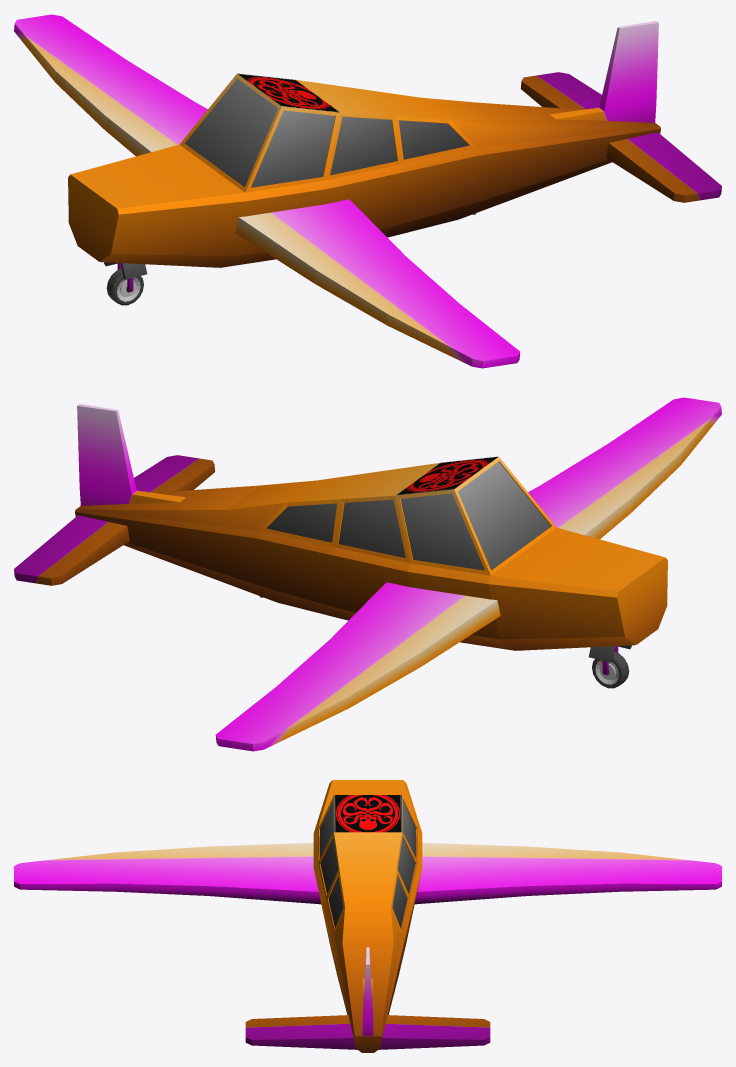
Rendered from avionhidra.obj.
3 views of the same model, one above another, from view 1: azimuth 30°, elevation 25°; view 2: azimuth 150°, elevation 25°; view 3: azimuth 270°, elevation 25° (orthographic). The views are drawn at different scales.
Parts seen in each view (by area): view 1: G_Plane_Malla.012, G_Plane_FWheel_Malla.014; view 2: G_Plane_Malla.012, G_Plane_FWheel_Malla.014; view 3: G_Plane_Malla.012.
Part boxes in pixels (left/top/right/bottom): G_Plane_Malla.012: left=14, top=14, right=721, bottom=368; G_Plane_FWheel_Malla.014: left=106, top=268, right=143, bottom=305; G_Plane_Malla.012: left=14, top=397, right=721, bottom=751; G_Plane_FWheel_Malla.014: left=592, top=651, right=629, bottom=688; G_Plane_Malla.012: left=14, top=780, right=721, bottom=1052.
Size of the model in its own units: 1.6 by 0.4866 by 2.28.
